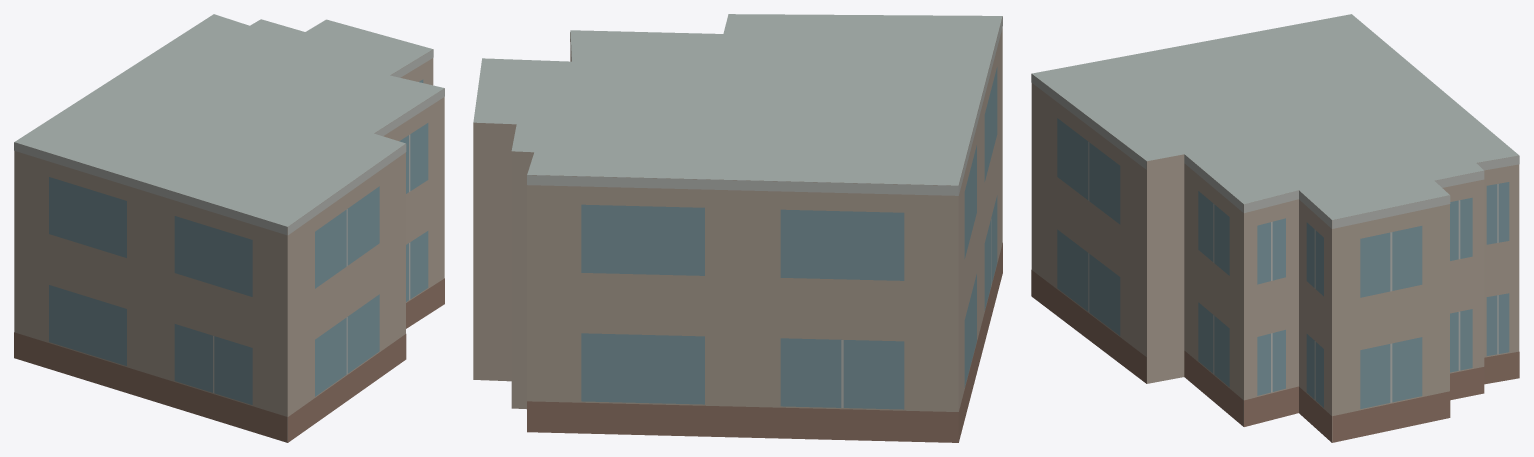
The model's file is survey-upis-32726321.glb.
3 renders of one model, left to right at view 1: azimuth 30°, elevation 25°; view 2: azimuth 150°, elevation 25°; view 3: azimuth 270°, elevation 25°, orthographic. The views are drawn at different scales.
Visible parts, largest first — view 1: survey-upis-32726321.tmp; view 2: survey-upis-32726321.tmp; view 3: survey-upis-32726321.tmp.
Part boxes in pixels (left/top/right/bottom): survey-upis-32726321.tmp: left=14, top=14, right=444, bottom=442; survey-upis-32726321.tmp: left=473, top=14, right=1002, bottom=442; survey-upis-32726321.tmp: left=1031, top=14, right=1519, bottom=442.
Bounding box in the file's own units: 12.12 × 6.1 × 12.12.
